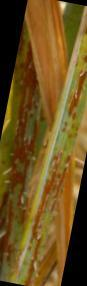Wheat: (7, 124, 34, 228), (39, 152, 72, 224), (17, 50, 39, 116), (70, 72, 85, 110)
